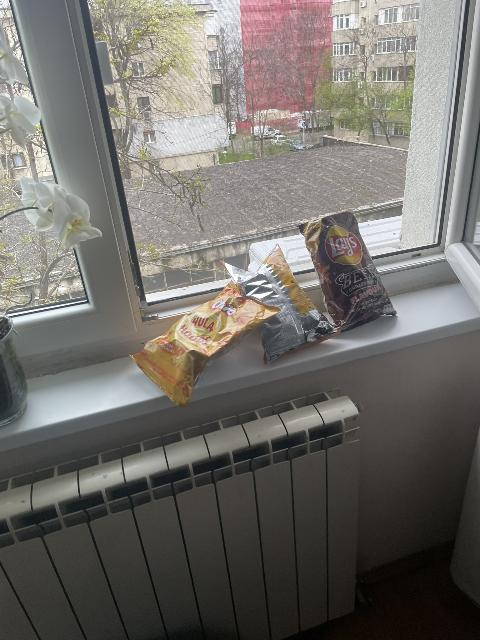Chio Cascaval 125g: (224, 246, 332, 364)
Chio Hula Hoops Cheese 70g: (133, 282, 275, 402)
Lays Beef Grilled Ribs 125g: (303, 211, 398, 330)
